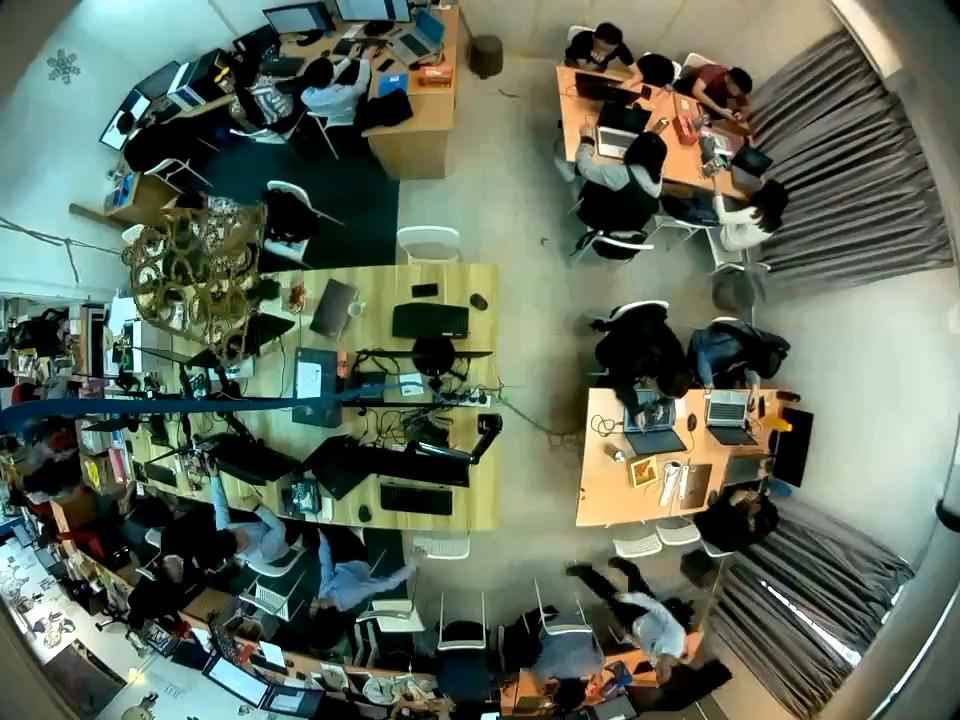name-tag: (650, 636, 658, 650)
